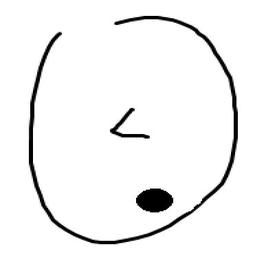open_mouth: (125, 181, 179, 216)
pointy_nose: (95, 97, 160, 144)
